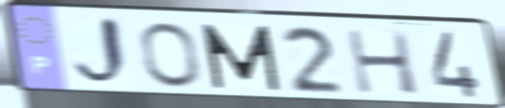2: (279, 24, 347, 96)
4: (430, 29, 482, 100)
H: (342, 27, 423, 97)
J: (70, 14, 135, 91)
M: (197, 21, 284, 93)
O: (136, 20, 205, 91)
